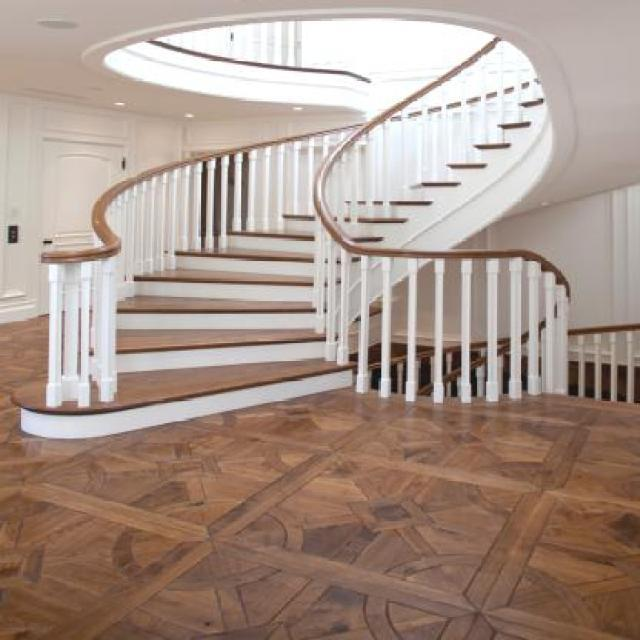stair: (20, 50, 605, 435)
